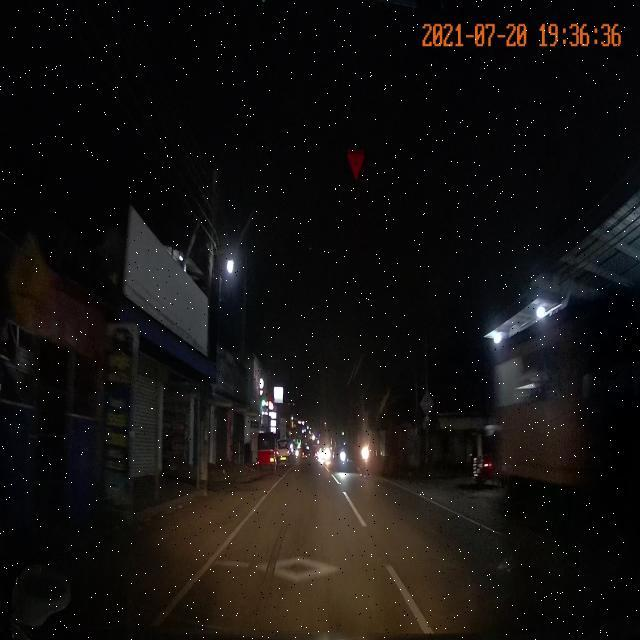diamond: (192, 547, 403, 583)
